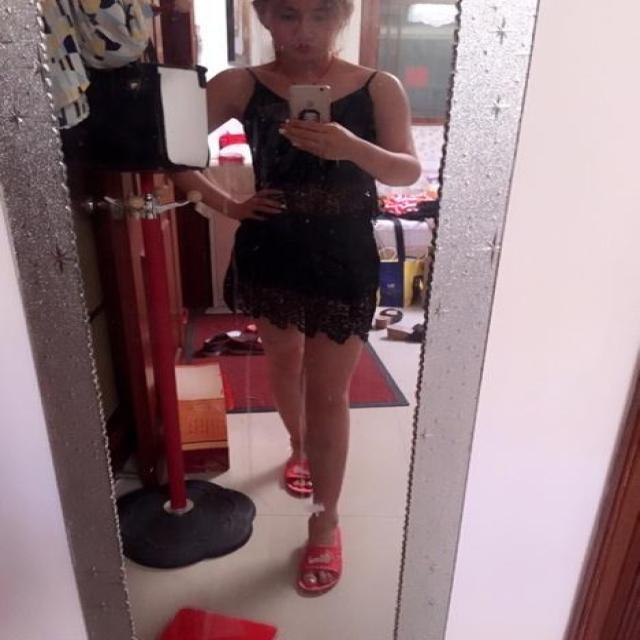skirt: (224, 206, 382, 346)
sling: (242, 68, 380, 221)
